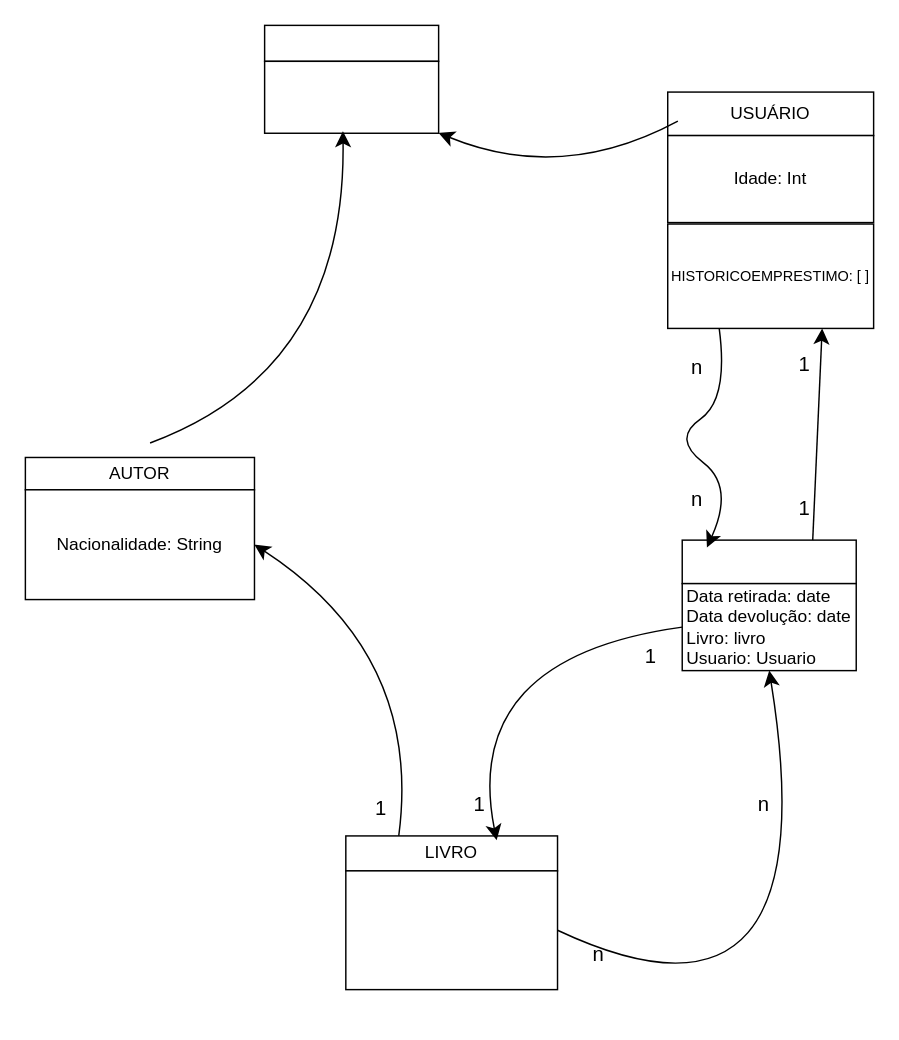
This 899x1040 diagram has some shape labels left out. The shapes that lost their labels are listed below. From the top down, each one's centre as x and y in pixels, then its label:
pixel 351 42: PESSOA
pixel 351 96: Nome: String
pixel 768 561: EMPRESTIMO
pixel 451 929: Titulo: String Genero: String Autor: Autor
